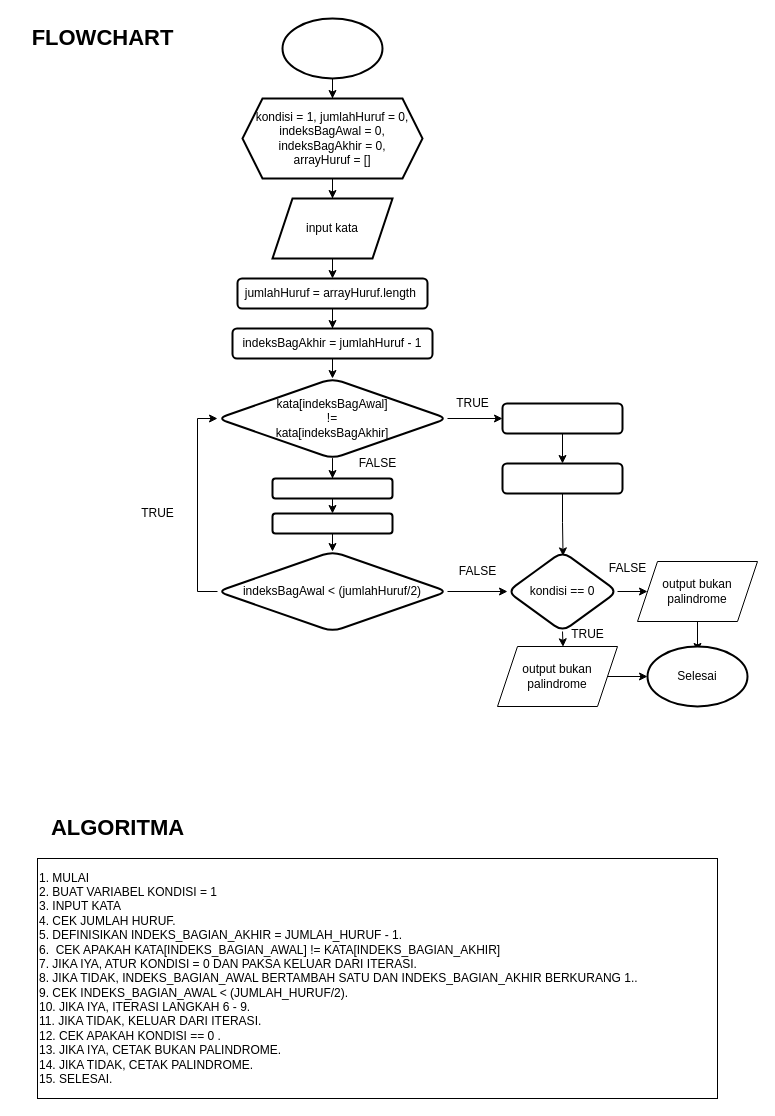
The diagram is 775 pixels wide and 1116 high, and some of its shapes have lost their labels. Each missing label, with the centre of its shape:
"break" belongs at (x=562, y=478).
"indeksBagAkhir--" belongs at (x=332, y=523).
"indeksBagAwal++" belongs at (x=332, y=488).
"kondisi = 0" belongs at (x=562, y=418).
"MULAI" belongs at (x=332, y=48).
